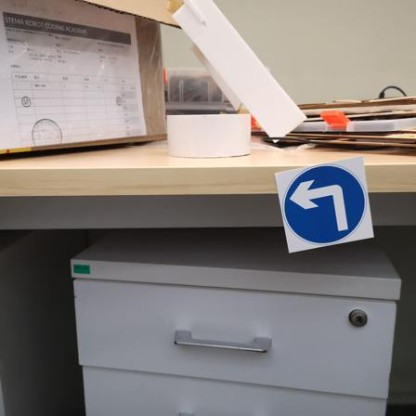left: (273, 161, 374, 254)
